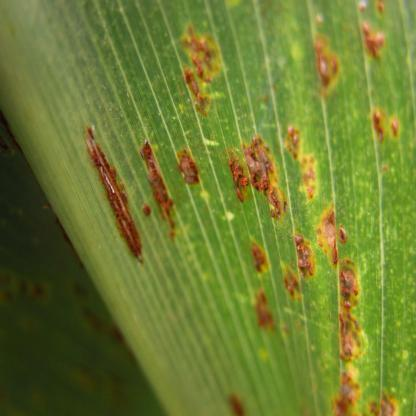Corn rust leaf: (3, 4, 414, 416)
